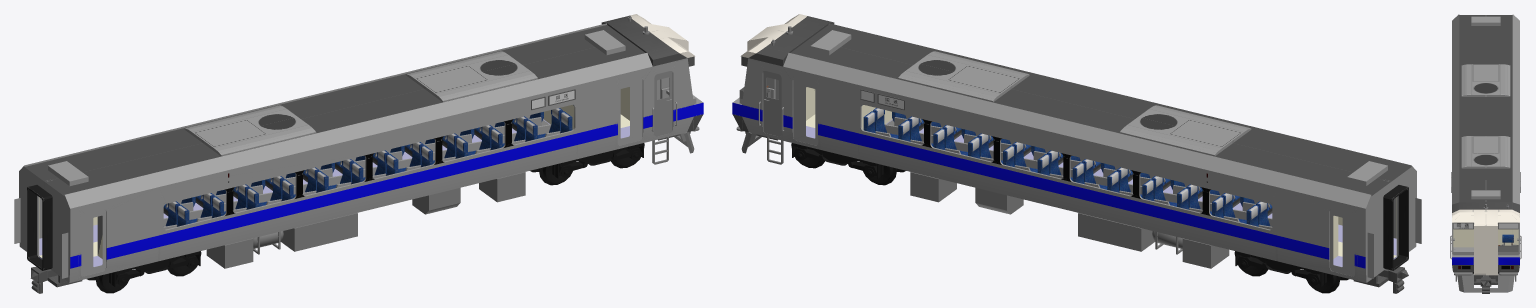
3 views of the same model, side by side, from view 1: azimuth 30°, elevation 25°; view 2: azimuth 150°, elevation 25°; view 3: azimuth 270°, elevation 25° (orthographic). The views are drawn at different scales.
Visible parts, largest first — view 1: Body0_outer, Seat, AirCon, UF_equip, horo_UA, door.R2, door.R, frame_out.001, frame_out, Floor, glass-door_UA, wheel.001 (+4 smaller); view 2: Body0_outer, Seat, AirCon, UF_equip, horo_UA, door.L2, door.L, frame_out.001, frame_out, Floor, glass-door_UA, Coupler (+3 smaller); view 3: Body0_outer, AirCon, OF_equip, Skirt, Sept, C_door.R, C_door.L, Coupler, con_base, 方向幕.
Part boxes in pixels (x1=…): Body0_outer: x1=19, y1=14, x2=703, y2=282; Seat: x1=163, y1=108, x2=572, y2=229; AirCon: x1=48, y1=30, x2=625, y2=185; UF_equip: x1=206, y1=137, x2=668, y2=268; horo_UA: x1=14, y1=185, x2=68, y2=278; door.R2: x1=81, y1=209, x2=105, y2=276; door.R: x1=617, y1=78, x2=642, y2=145; frame_out.001: x1=109, y1=251, x2=200, y2=286; frame_out: x1=552, y1=143, x2=643, y2=178; Floor: x1=39, y1=114, x2=629, y2=266; glass-door_UA: x1=654, y1=71, x2=672, y2=136; wheel.001: x1=86, y1=251, x2=201, y2=293; Body0_outer: x1=732, y1=14, x2=1416, y2=282; Seat: x1=863, y1=108, x2=1272, y2=229; AirCon: x1=810, y1=30, x2=1387, y2=185; UF_equip: x1=767, y1=137, x2=1229, y2=268; horo_UA: x1=1367, y1=185, x2=1421, y2=278; door.L2: x1=1330, y1=209, x2=1354, y2=276; door.L: x1=793, y1=78, x2=818, y2=145; frame_out.001: x1=1235, y1=251, x2=1326, y2=286; frame_out: x1=792, y1=143, x2=883, y2=178; Floor: x1=806, y1=114, x2=1396, y2=266; glass-door_UA: x1=763, y1=71, x2=781, y2=136; Coupler: x1=745, y1=131, x2=1408, y2=293; Body0_outer: x1=1452, y1=14, x2=1519, y2=272; AirCon: x1=1461, y1=16, x2=1510, y2=199; OF_equip: x1=1450, y1=172, x2=1521, y2=270; Skirt: x1=1454, y1=272, x2=1517, y2=292; Sept: x1=1453, y1=229, x2=1518, y2=247; C_door.R: x1=1486, y1=224, x2=1497, y2=275; C_door.L: x1=1474, y1=224, x2=1485, y2=275; Coupler: x1=1474, y1=275, x2=1497, y2=293; con_base: x1=1498, y1=234, x2=1518, y2=251; 方向幕: x1=1453, y1=223, x2=1518, y2=228.
Size of the model in its own units: 21 by 3.84 by 2.94.
4 materials, 3 textured.
